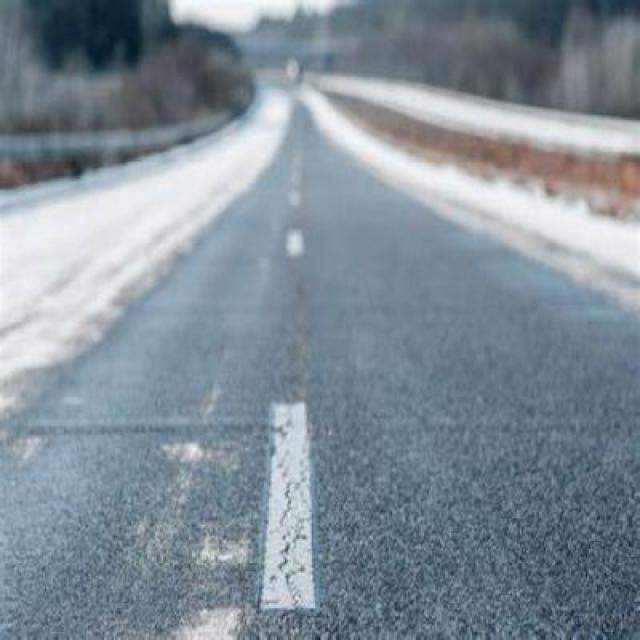ice-road: (0, 103, 640, 640)
